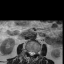CCS_normal: (30, 49, 32, 58)
LFS_normal: (34, 49, 36, 56)
LLS_normal: (32, 49, 34, 57)
RFS_normal: (26, 48, 28, 55)
RLS_normal: (28, 49, 30, 57)
